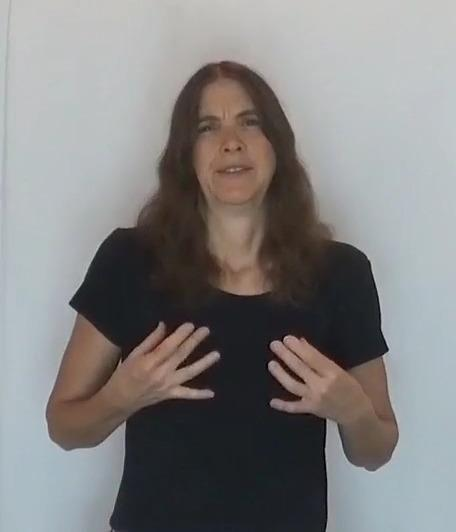Dolor: (17, 43, 407, 484)
